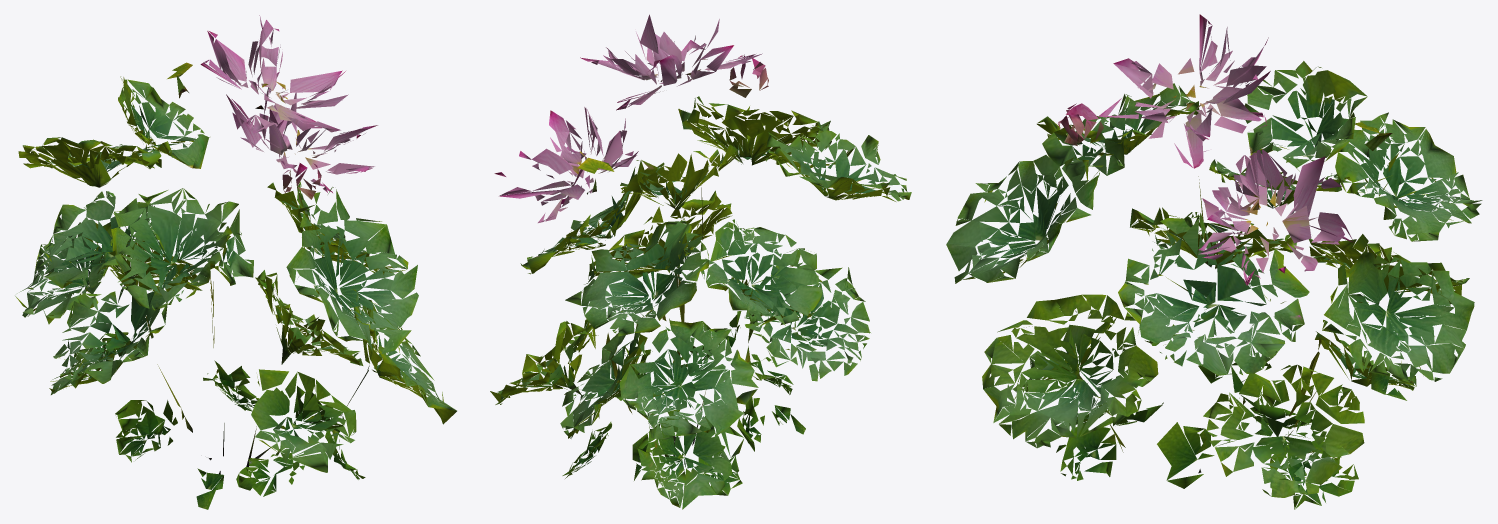
The model's file is lotus_flowers.gltf.
3 renders of one model, left to right at view 1: azimuth 30°, elevation 25°; view 2: azimuth 150°, elevation 25°; view 3: azimuth 270°, elevation 25°, orthographic. The views are drawn at different scales.
Parts seen in each view (by area): view 1: Object_4; view 2: Object_4; view 3: Object_4.
Boxes of the visible parts, x1,y1,x2,y2 form: Object_4: (15,15,456,509); Object_4: (490,14,911,509); Object_4: (946,14,1482,509).
Bounding box in the file's own units: 0.7243 × 0.9127 × 0.9731.
Materials: 1 (1 with a texture image).
